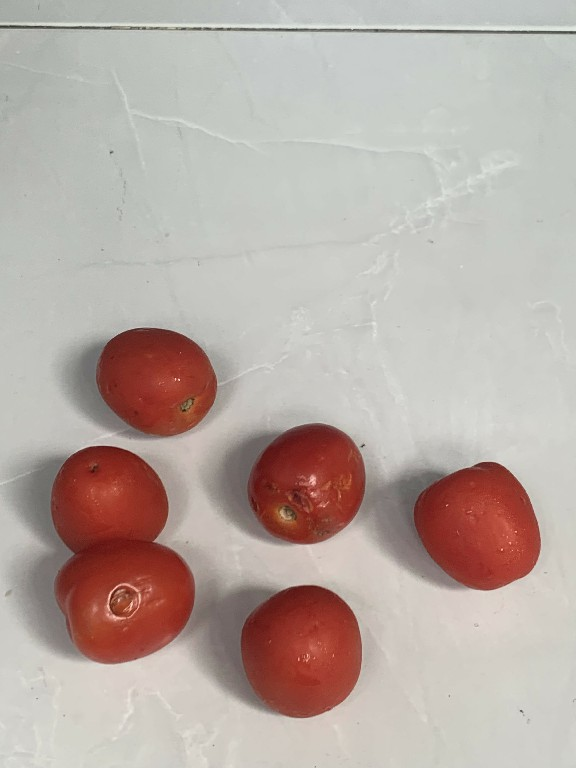NG: (42, 540, 205, 672), (244, 404, 371, 552)
OK: (403, 454, 550, 598), (236, 587, 369, 736), (86, 320, 225, 457), (39, 441, 184, 552)
